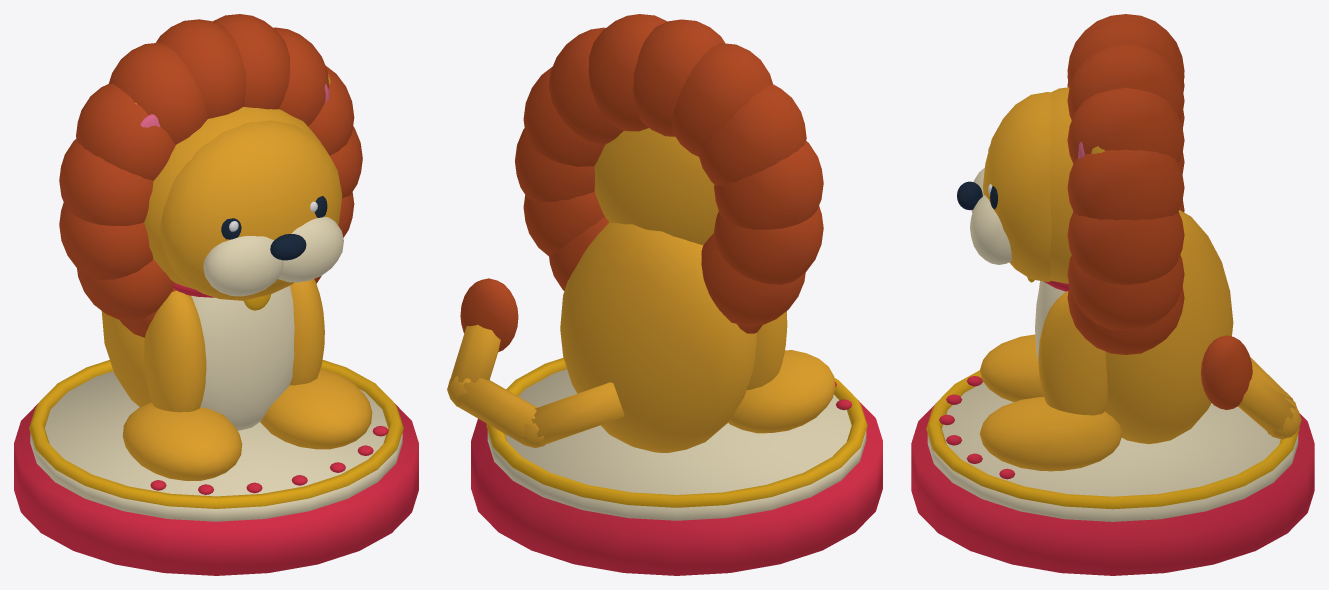
The model's file is red_lion.glb.
3 views of the same model, side by side, from view 1: azimuth 30°, elevation 25°; view 2: azimuth 150°, elevation 25°; view 3: azimuth 270°, elevation 25° (orthographic). The views are drawn at different scales.
Visible parts, largest first — view 1: world; view 2: world; view 3: world.
Boxes of the visible parts, x1,y1,x2,y2 form: world: (14,14,418,575); world: (447,14,882,575); world: (911,14,1314,575).
Bounding box in the file's own units: 0.124 × 0.1568 × 0.124.
